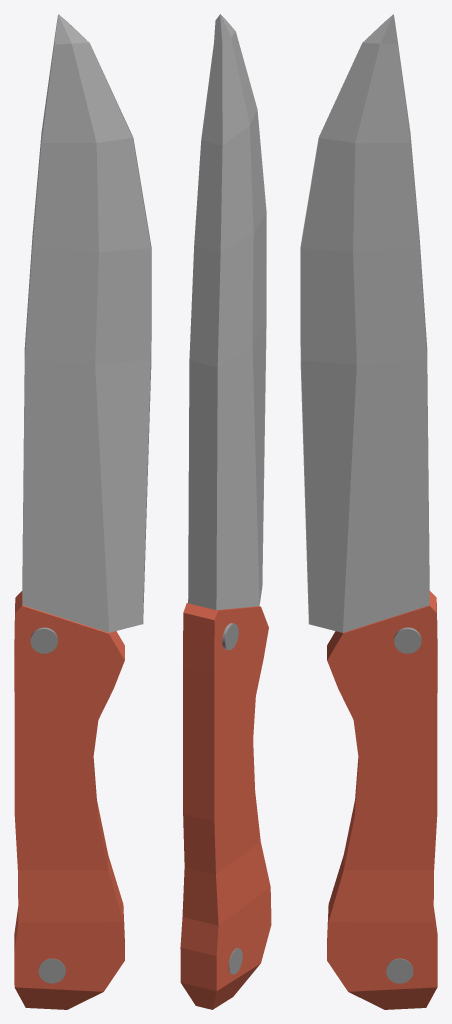
Rendered from Knife.fbx.
The picture shows the model from 3 angles, left to right: view 1: azimuth 90°, elevation 25°; view 2: azimuth 150°, elevation 25°; view 3: azimuth 270°, elevation 25°; orthographic projection.
Visible parts, largest first — view 1: Cube, Cube.001, Cylinder.001, Cylinder; view 2: Cube, Cube.001, Cylinder.001, Cylinder; view 3: Cube, Cube.001, Cylinder.001, Cylinder.
Boxes of the visible parts, bbox=[...] form: Cube: bbox=[22, 14, 151, 632]; Cube.001: bbox=[14, 591, 124, 1009]; Cylinder.001: bbox=[30, 627, 57, 653]; Cylinder: bbox=[38, 958, 65, 983]; Cube: bbox=[188, 14, 266, 610]; Cube.001: bbox=[180, 603, 271, 1009]; Cylinder.001: bbox=[222, 623, 238, 650]; Cylinder: bbox=[228, 948, 242, 974]; Cube: bbox=[300, 14, 429, 632]; Cube.001: bbox=[327, 591, 437, 1009]; Cylinder.001: bbox=[394, 627, 421, 653]; Cylinder: bbox=[386, 958, 413, 983].
Size of the model in its own units: 18.05 by 453 by 56.85.
